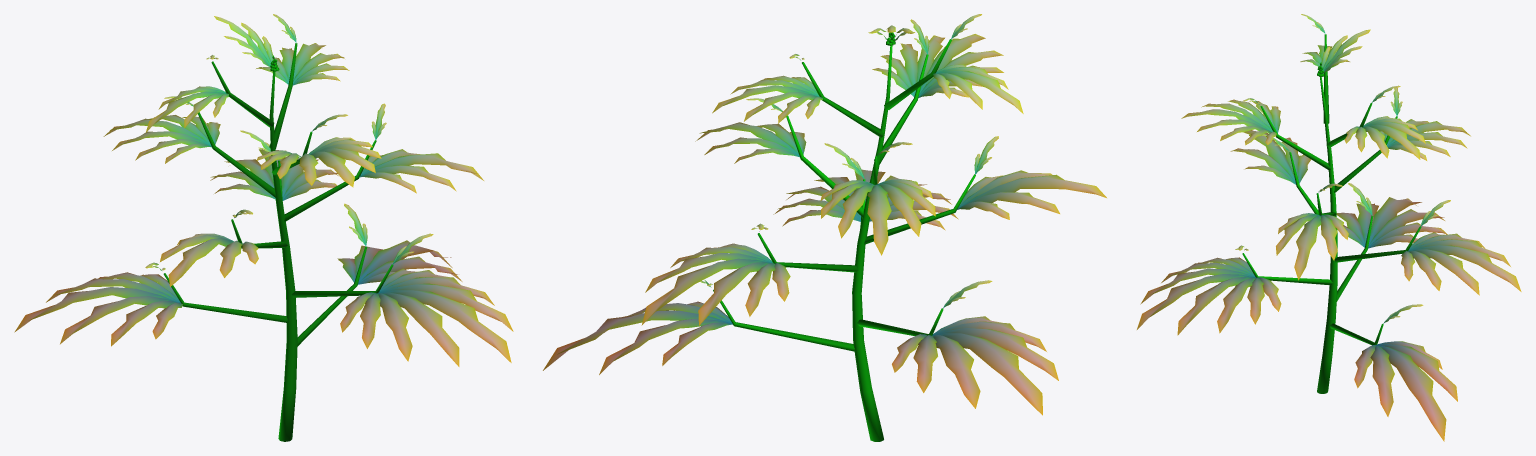
File: plant_veg.glb
3 views of the same model, side by side, from view 1: azimuth 30°, elevation 25°; view 2: azimuth 150°, elevation 25°; view 3: azimuth 270°, elevation 25° (orthographic). The views are drawn at different scales.
Visible parts, largest first — view 1: Leaves, Stem; view 2: Leaves, Stem; view 3: Leaves, Stem.
Boxes of the visible parts, <box> form: Leaves: <box>14,14,513,366</box>; Stem: <box>163,43,393,441</box>; Leaves: <box>543,14,1106,415</box>; Stem: <box>713,39,975,441</box>; Leaves: <box>1137,14,1521,441</box>; Stem: <box>1242,34,1421,393</box>.
Size of the model in its own units: 0.8076 by 0.7 by 0.7089.
